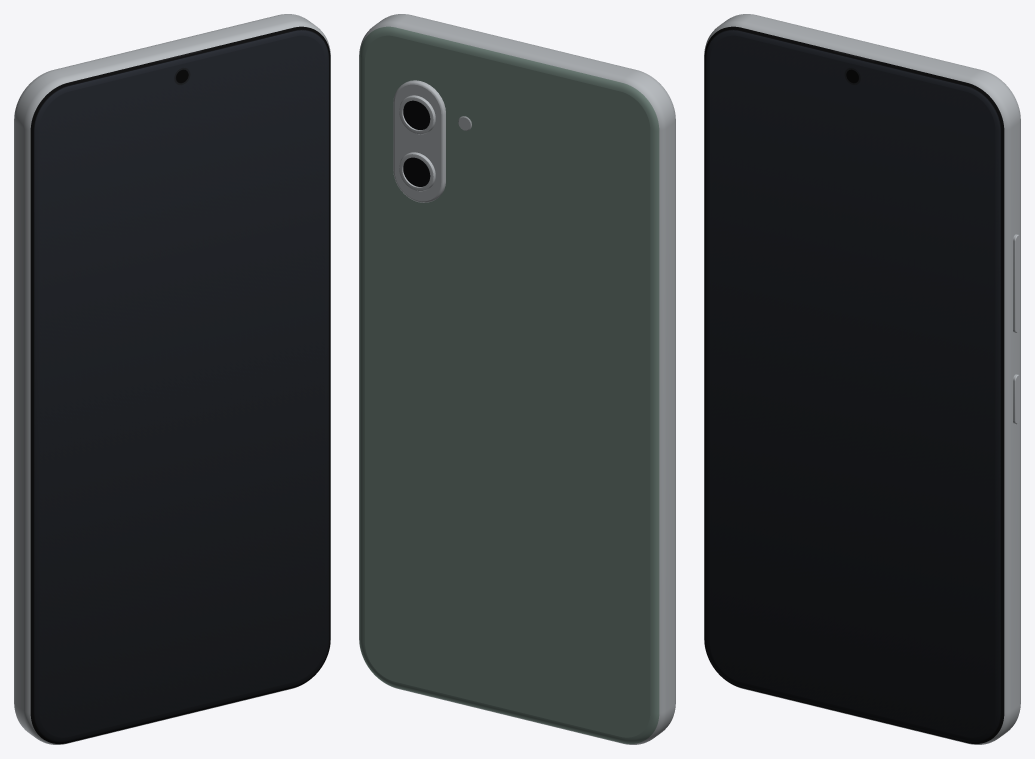
File: smartphone.glb
The picture shows the model from 3 angles, left to right: view 1: azimuth 30°, elevation 25°; view 2: azimuth 150°, elevation 25°; view 3: azimuth 330°, elevation 25°; orthographic projection.
Parts seen in each view (by area): view 1: smartphone; view 2: smartphone; view 3: smartphone.
Boxes of the visible parts, <box> form: smartphone: <box>14,14,330,744</box>; smartphone: <box>359,14,675,744</box>; smartphone: <box>704,14,1020,744</box>.
Size of the model in its own units: 0.0726 by 0.15 by 0.0098.
3 materials, 1 textured.
